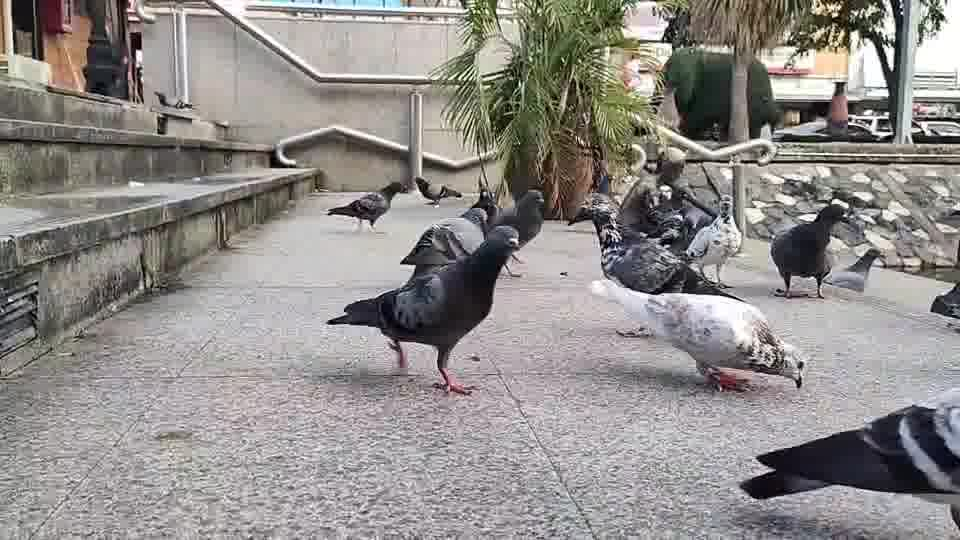Pigeon: (325, 222, 522, 395), (739, 386, 959, 532), (589, 276, 805, 393), (567, 190, 748, 301), (769, 203, 852, 299), (469, 187, 545, 275), (682, 193, 742, 285), (325, 180, 407, 232), (823, 247, 887, 293), (413, 175, 462, 207), (929, 280, 959, 319)
